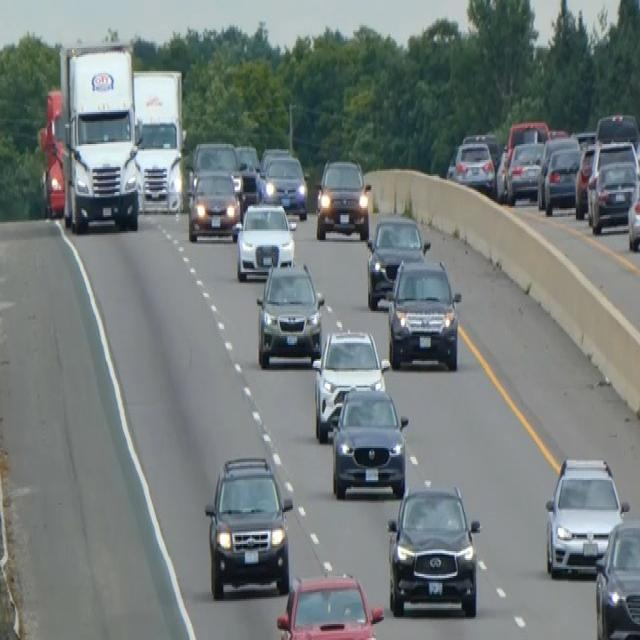car: (203, 453, 293, 599), (386, 482, 481, 617), (544, 455, 628, 578), (330, 384, 409, 500), (311, 325, 389, 441), (385, 256, 462, 370), (255, 258, 324, 368), (275, 571, 384, 638), (365, 212, 430, 310), (594, 516, 639, 638), (232, 199, 296, 281), (315, 156, 371, 240), (187, 167, 241, 242), (586, 158, 638, 235), (186, 139, 244, 201), (260, 153, 308, 219), (542, 144, 581, 215), (504, 138, 544, 204), (450, 137, 495, 194), (573, 140, 597, 218), (594, 110, 639, 150), (505, 117, 549, 155), (233, 142, 261, 201), (462, 130, 501, 169), (259, 144, 290, 174), (627, 175, 639, 252), (234, 142, 259, 172)
lorry: (56, 39, 142, 233)
